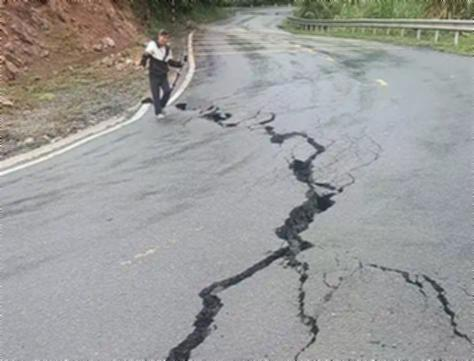ROAD_CRACK: (173, 97, 419, 361), (133, 74, 299, 153)
